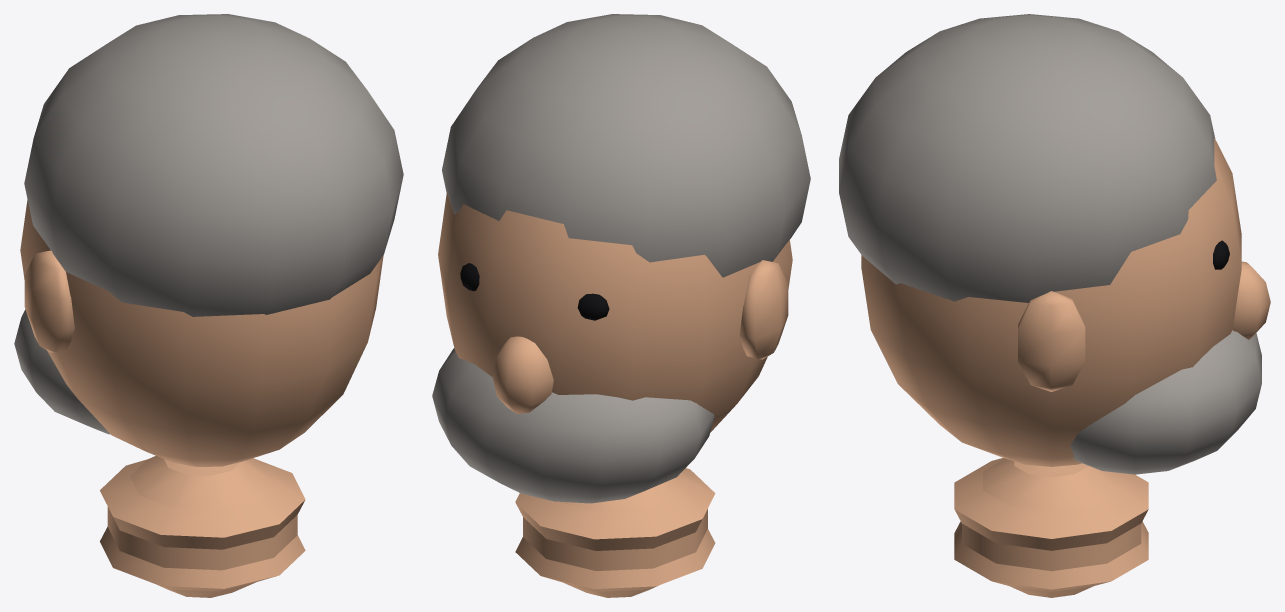
The model's file is char_resident_head.obj.
3 views of the same model, side by side, from view 1: azimuth 30°, elevation 25°; view 2: azimuth 150°, elevation 25°; view 3: azimuth 270°, elevation 25° (orthographic). The views are drawn at different scales.
Parts seen in each view (by area): view 1: char_resident_head; view 2: char_resident_head; view 3: char_resident_head.
Boxes of the visible parts, x1,y1,x2,y2 form: char_resident_head: (14, 14, 403, 597); char_resident_head: (432, 14, 810, 597); char_resident_head: (839, 14, 1270, 597).
Bounding box in the file's own units: 0.2088 × 0.33 × 0.2324.
